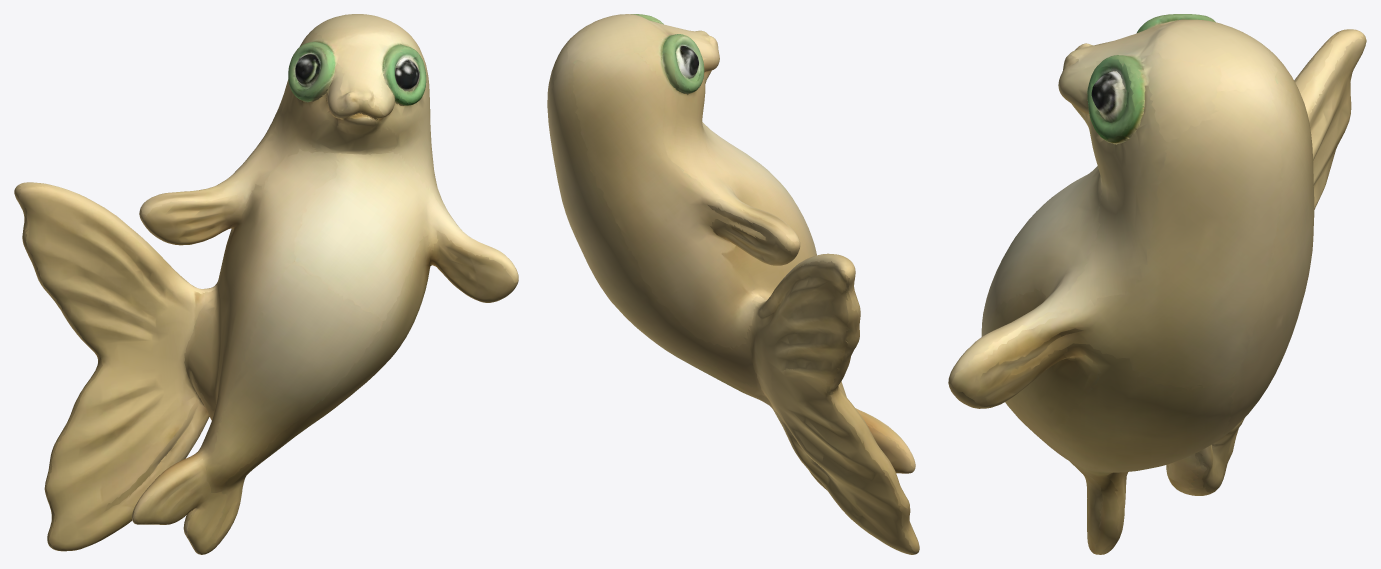
The model's file is naiwa_naiyu_runtime.glb.
3 views of the same model, side by side, from view 1: azimuth 30°, elevation 25°; view 2: azimuth 150°, elevation 25°; view 3: azimuth 270°, elevation 25° (orthographic). The views are drawn at different scales.
Visible parts, largest first — view 1: geometry_0; view 2: geometry_0; view 3: geometry_0.
Part boxes in pixels (left/top/right/bottom): geometry_0: left=14, top=14, right=518, bottom=554; geometry_0: left=547, top=14, right=919, bottom=554; geometry_0: left=948, top=14, right=1366, bottom=554.
Size of the model in its own units: 0.18 by 0.2083 by 0.1214.
1 material, 1 textured.
